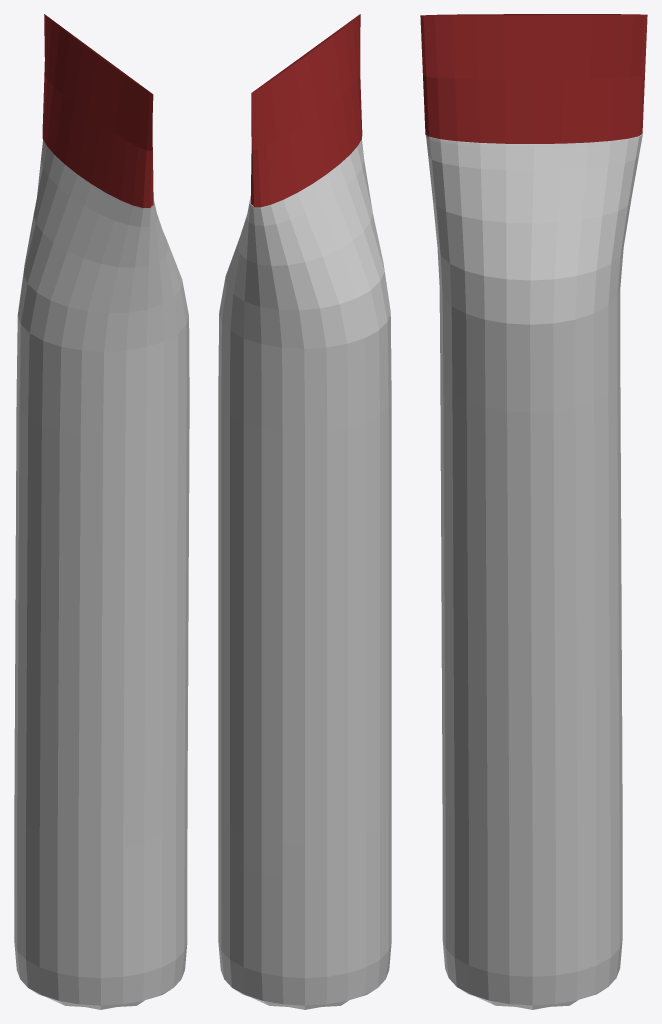
3 views of the same model, side by side, from view 1: azimuth 30°, elevation 25°; view 2: azimuth 150°, elevation 25°; view 3: azimuth 270°, elevation 25° (orthographic). The views are drawn at different scales.
Parts seen in each view (by area): view 1: Cylinder, Cylinder.001; view 2: Cylinder, Cylinder.001; view 3: Cylinder, Cylinder.001.
Boxes of the visible parts, <box> form: Cylinder: <box>14,139,189,1009</box>; Cylinder.001: <box>42,14,153,207</box>; Cylinder: <box>218,139,391,1009</box>; Cylinder.001: <box>250,14,362,207</box>; Cylinder: <box>426,133,642,1009</box>; Cylinder.001: <box>420,14,647,143</box>.
Bounding box in the file's own units: 192 × 1134 × 241.
